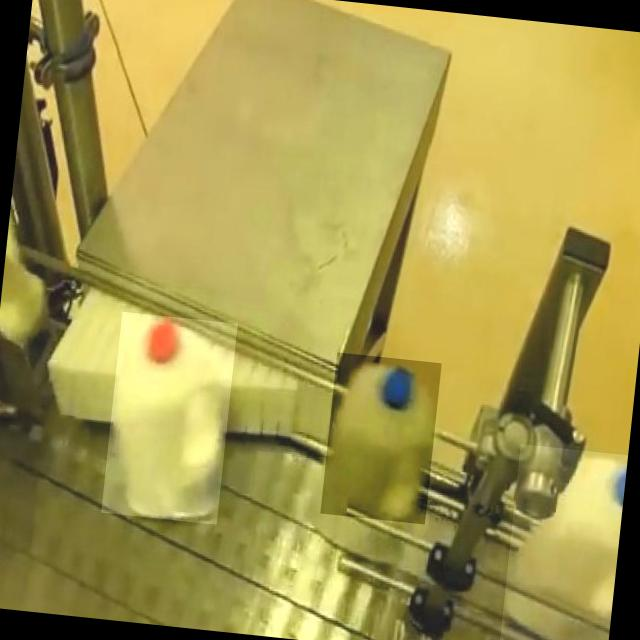milk: (82, 296, 255, 566), (316, 360, 446, 558), (501, 447, 627, 640)
